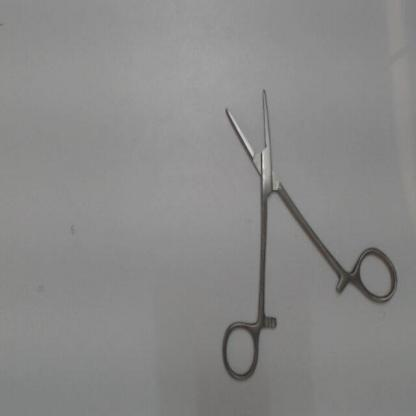Mayo Needle Holder: (215, 72, 403, 382)
